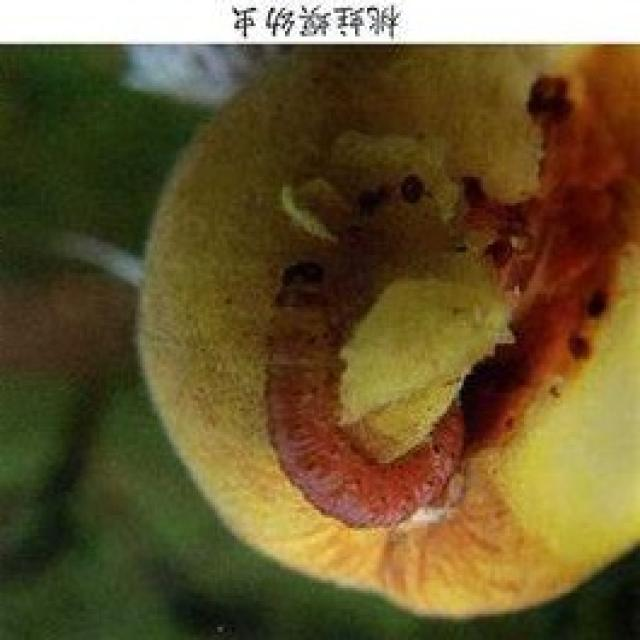peach borer: (256, 255, 476, 538)
